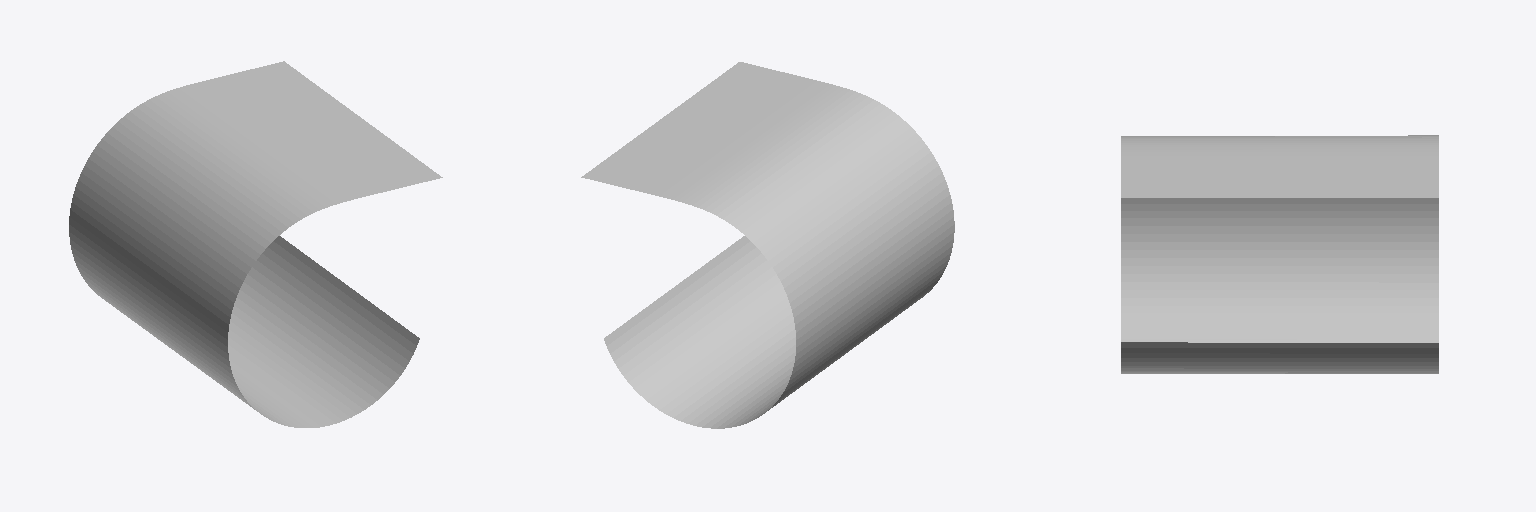
Rendered from CurvePaper_000026.obj.
The picture shows the model from 3 angles: view 1: azimuth 30°, elevation 25°; view 2: azimuth 150°, elevation 25°; view 3: azimuth 270°, elevation 25°; orthographic projection.
Parts seen in each view (by area): view 1: Plane; view 2: Plane; view 3: Plane.
Part boxes in pixels (left/top/right/bottom): Plane: left=69, top=61, right=442, bottom=427; Plane: left=581, top=62, right=954, bottom=428; Plane: left=1121, top=135, right=1438, bottom=373.
Bounding box in the file's own units: 1.77 × 1.74 × 2.26.